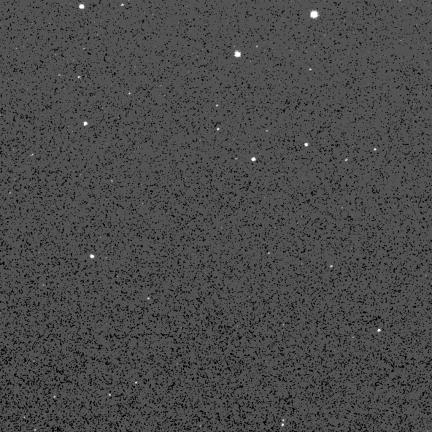blob: (311, 11, 318, 18), (235, 51, 240, 57), (79, 4, 84, 9), (90, 254, 94, 258), (252, 157, 256, 161), (84, 122, 88, 125), (377, 329, 380, 332), (217, 128, 220, 131), (305, 143, 308, 146), (374, 149, 377, 152)
